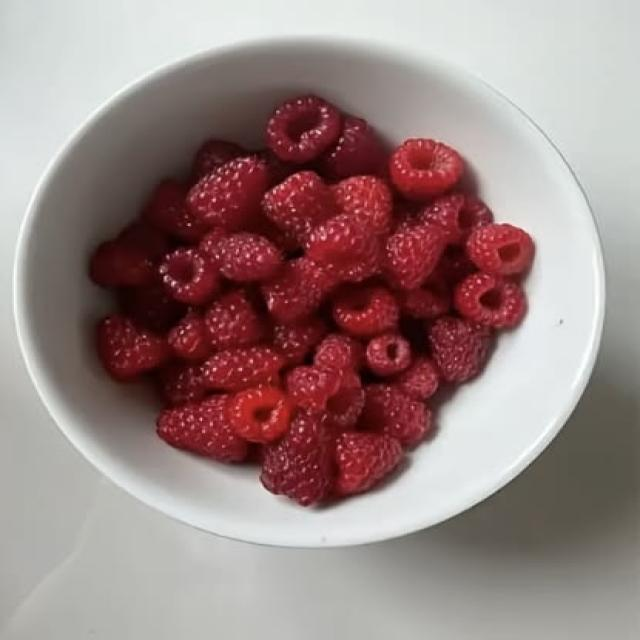raspberry: (261, 412, 334, 506), (187, 156, 268, 230), (158, 396, 248, 462), (267, 95, 342, 163), (96, 314, 171, 381), (263, 171, 336, 239), (261, 258, 336, 324), (389, 139, 464, 201), (360, 385, 433, 446), (334, 432, 404, 495), (318, 116, 387, 179), (428, 317, 491, 382), (142, 179, 206, 242), (384, 225, 445, 289), (454, 274, 527, 327), (227, 386, 294, 443), (420, 194, 493, 244), (306, 214, 376, 266), (203, 346, 283, 391), (332, 175, 393, 234), (204, 291, 266, 349), (466, 224, 535, 276), (159, 248, 220, 305), (119, 282, 185, 332), (215, 232, 282, 281), (334, 286, 399, 336), (90, 240, 155, 288), (272, 318, 328, 366), (327, 237, 385, 282), (286, 366, 340, 411), (326, 370, 365, 431), (418, 194, 465, 244), (192, 140, 248, 181), (118, 220, 171, 262), (167, 313, 212, 362), (249, 216, 300, 257), (159, 363, 206, 405), (395, 356, 439, 400), (366, 333, 411, 376), (314, 333, 362, 373), (400, 281, 450, 319), (434, 247, 476, 288), (258, 149, 299, 186), (460, 195, 493, 234), (198, 228, 228, 259), (394, 201, 421, 230)
